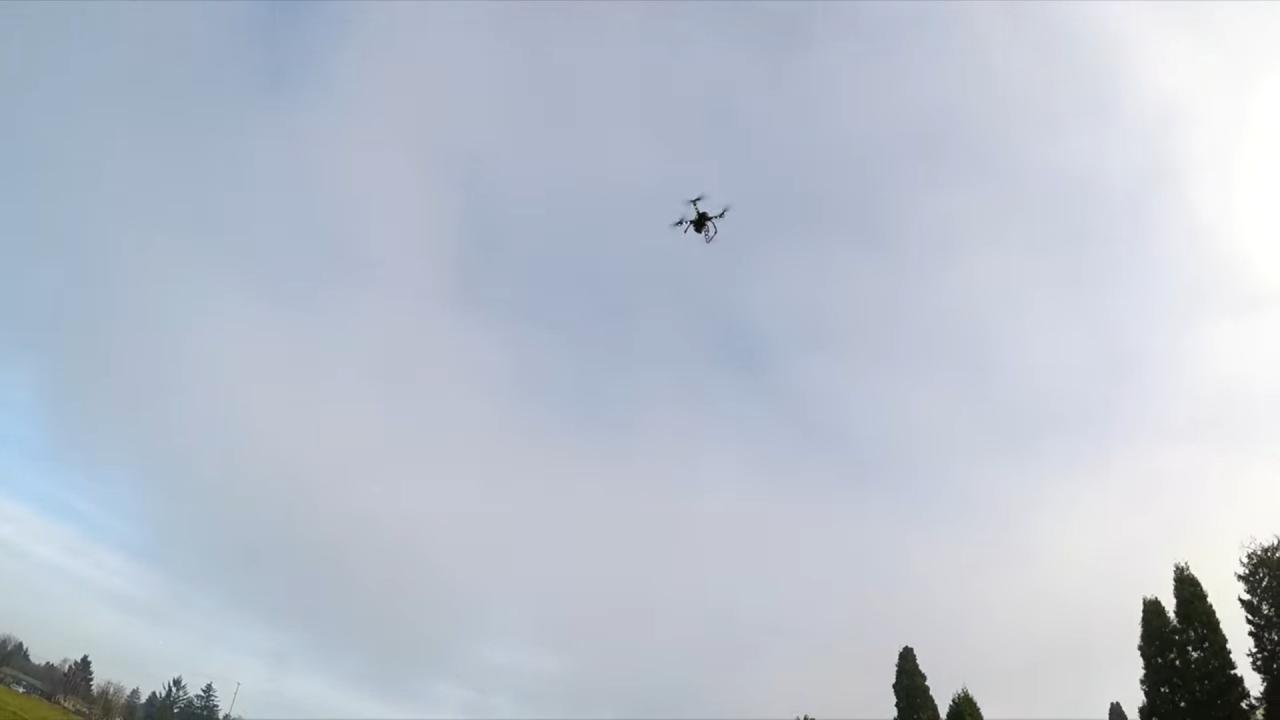Drone: (659, 186, 740, 252)
